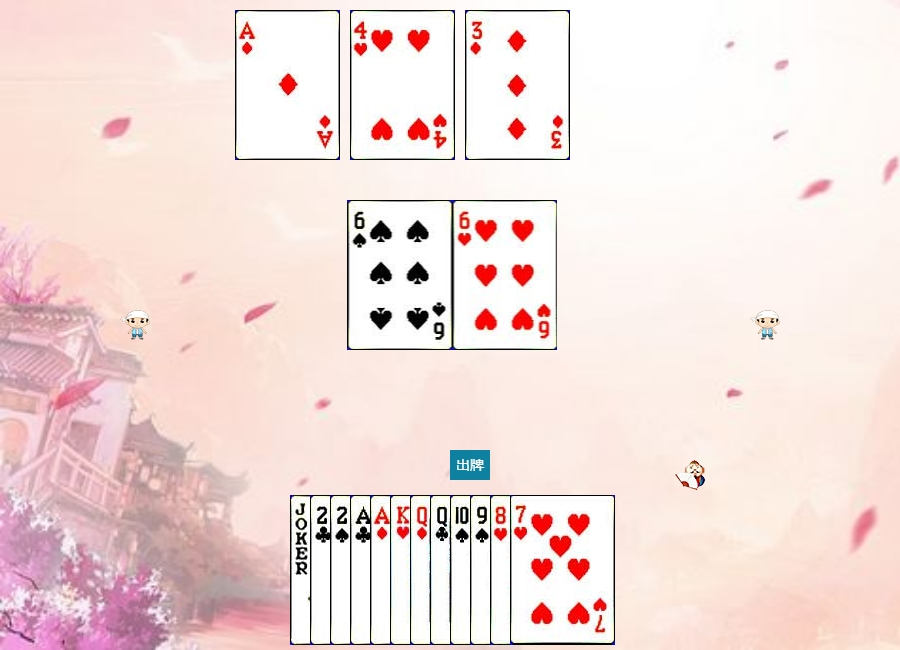10~4: (450, 495, 555, 645)
12~1: (410, 495, 515, 645)
12~2: (430, 495, 535, 645)
13~3: (390, 495, 495, 645)
14~1: (235, 10, 340, 160), (370, 495, 475, 645)
14~2: (350, 495, 455, 645)
15~2: (310, 495, 415, 645)
15~4: (330, 495, 435, 645)
17~3: (290, 495, 395, 645)
3~1: (465, 10, 570, 160)
4~3: (350, 10, 455, 160)
6~3: (453, 200, 558, 350)
6~4: (348, 200, 453, 350)
7~3: (510, 495, 615, 645)
8~3: (490, 495, 595, 645)
9~4: (470, 495, 575, 645)
